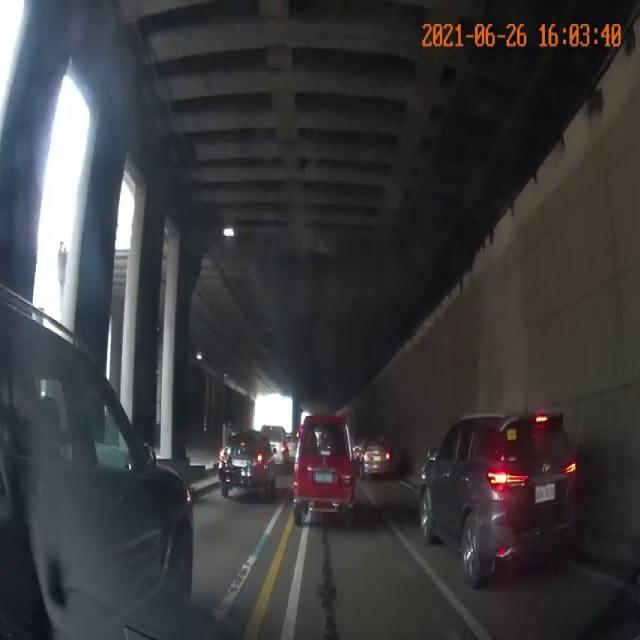car: (0, 340, 183, 620), (424, 413, 581, 582), (288, 404, 364, 530), (224, 420, 272, 496)
